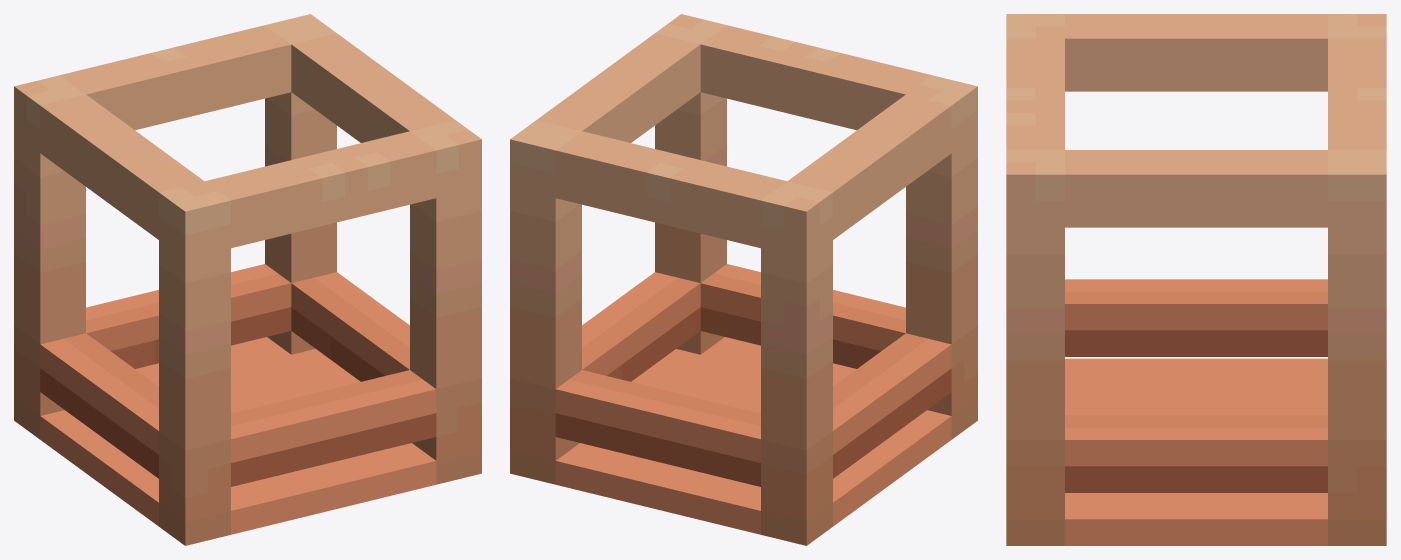
Rendered from tower-square-mid-open.glb.
3 renders of one model, left to right at view 1: azimuth 30°, elevation 25°; view 2: azimuth 150°, elevation 25°; view 3: azimuth 270°, elevation 25°, orthographic. The views are drawn at different scales.
Visible parts, largest first — view 1: tower-square-mid-open; view 2: tower-square-mid-open; view 3: tower-square-mid-open.
Part boxes in pixels (left/top/right/bottom): tower-square-mid-open: left=14, top=14, right=481, bottom=545; tower-square-mid-open: left=510, top=14, right=977, bottom=545; tower-square-mid-open: left=1006, top=14, right=1386, bottom=545.
Size of the model in its own units: 0.9386 by 1.01 by 0.9386.
Materials: 1 (1 with a texture image).
